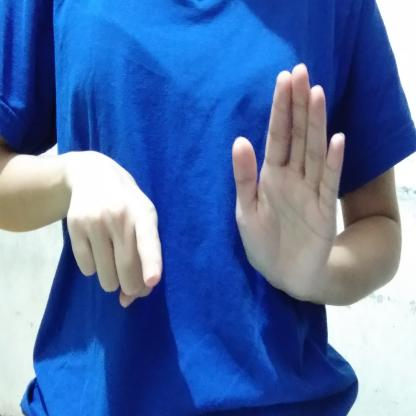stop: (57, 59, 350, 319)
